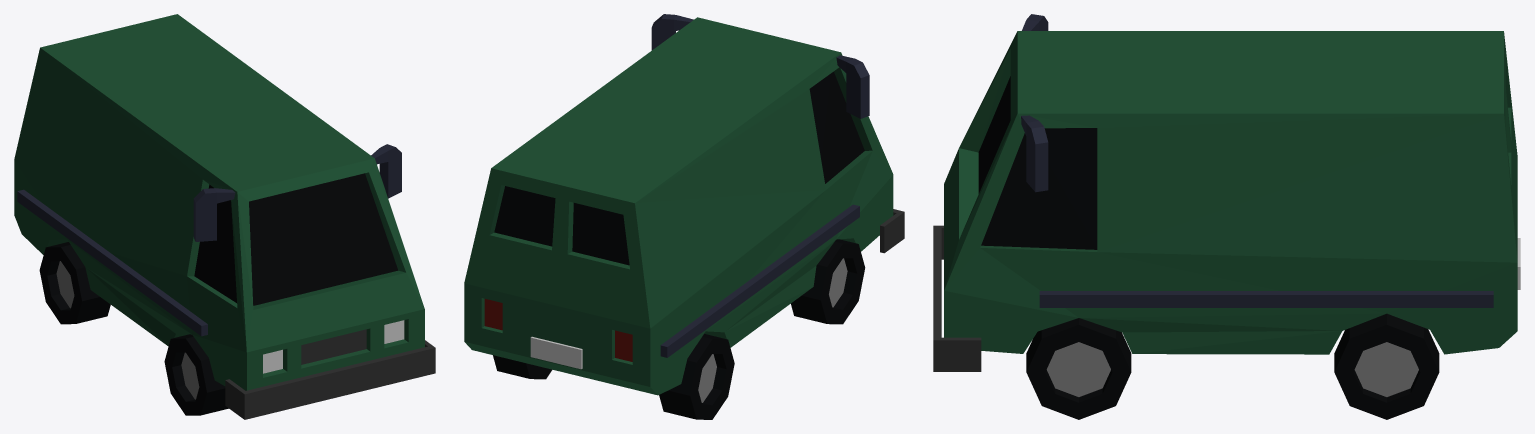
Rendered from Vehicle_Car_Van_Green_Materials.FBX.
3 views of the same model, side by side, from view 1: azimuth 30°, elevation 25°; view 2: azimuth 150°, elevation 25°; view 3: azimuth 270°, elevation 25° (orthographic). The views are drawn at different scales.
Visible parts, largest first — view 1: Vehicle_Car_Van_Green; view 2: Vehicle_Car_Van_Green; view 3: Vehicle_Car_Van_Green.
Boxes of the visible parts, <box> form: Vehicle_Car_Van_Green: <box>14,14,435,419</box>; Vehicle_Car_Van_Green: <box>464,14,904,419</box>; Vehicle_Car_Van_Green: <box>933,14,1520,419</box>.
Bounding box in the file's own units: 2.06 × 2.26 × 4.12.
